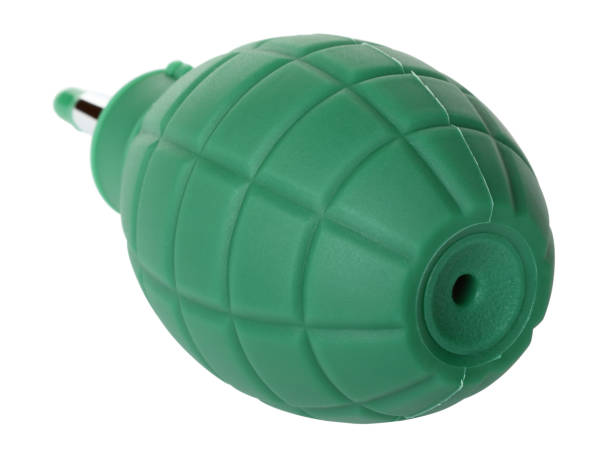e1: (52, 35, 556, 421)
